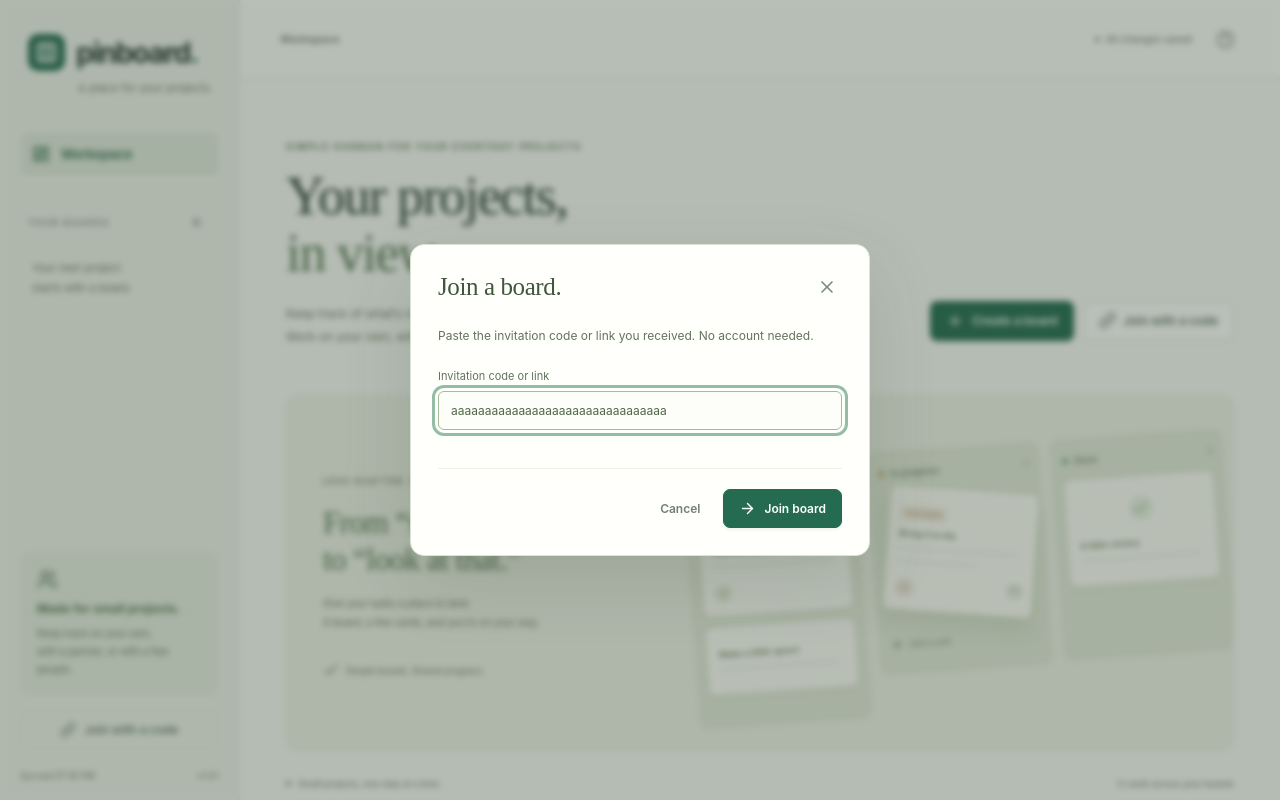
Test: Pinboard UI and synchronization › opens direct invitation links, clears a cancelled invitation, and stays closed after reload
This screenshot has width=1280, height=800.
Click the button "Cancel": (680, 509) [645,489,715,528]
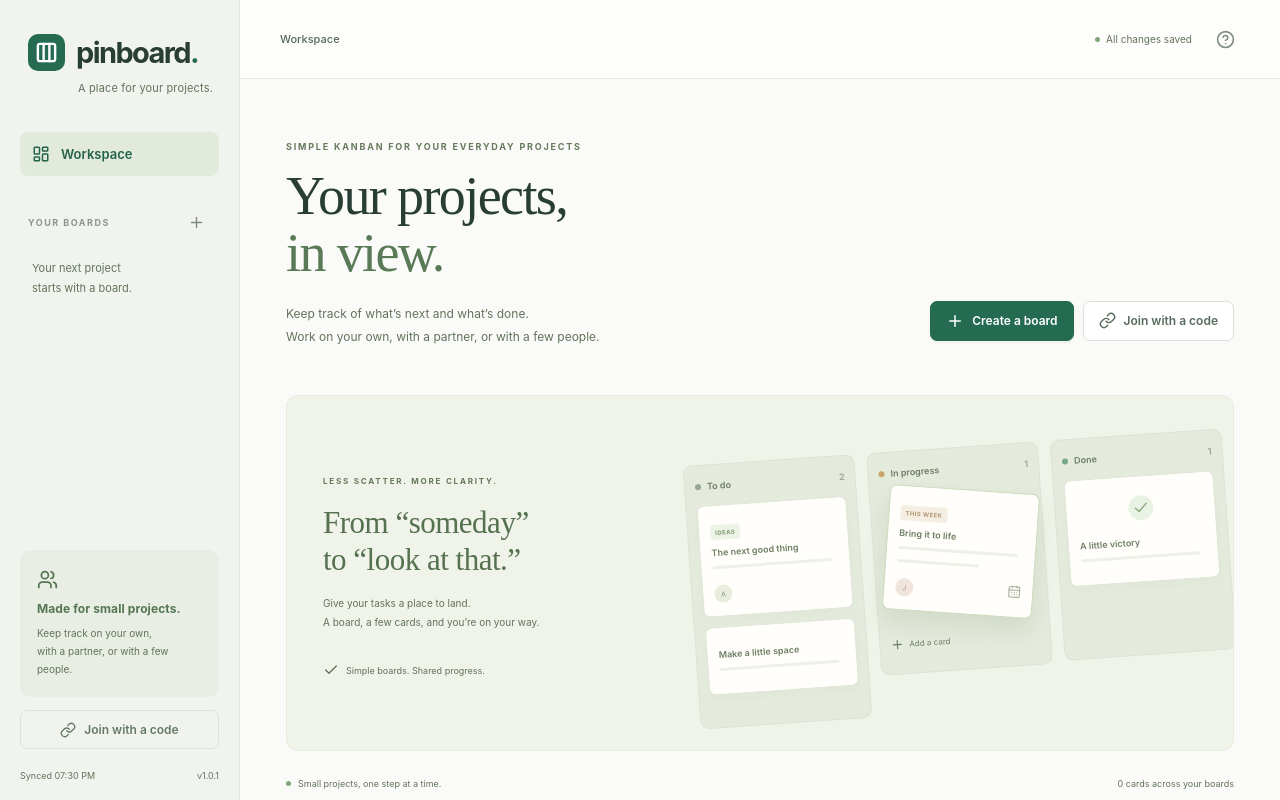
Now the dialog is gone
